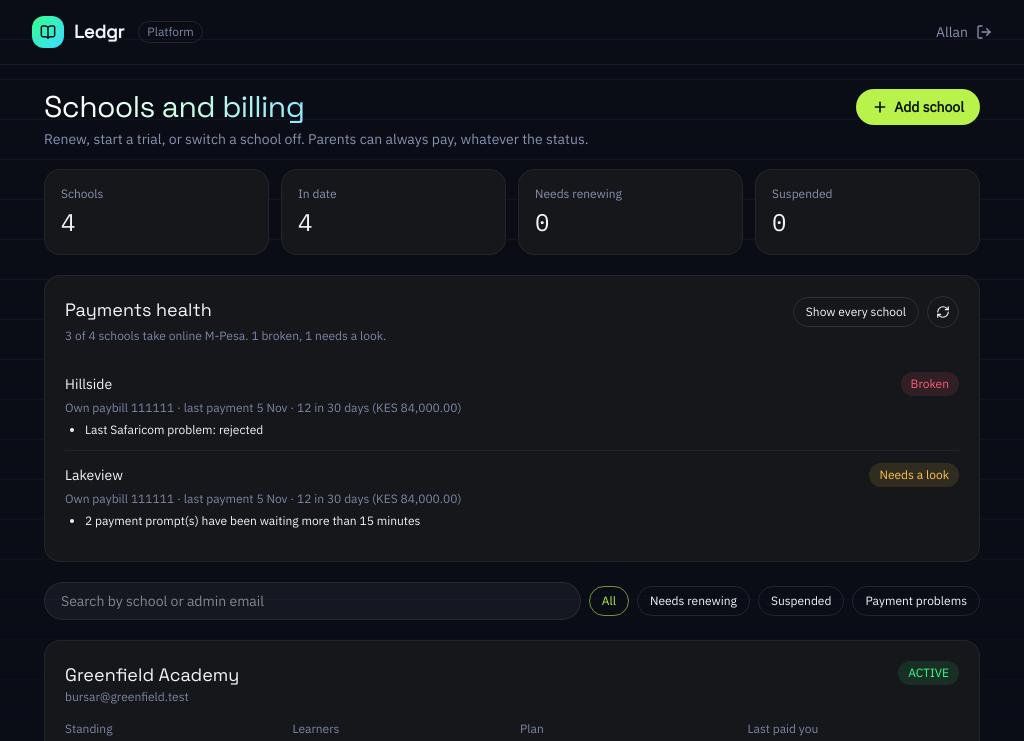
Scenario: payments health › shows only the problems at first, worst first, and can show every school
Expected: the text "3 of 4 schools take online M-Pesa. 1 broken, 1 needs a look." is shown, [65,328,386,344]
Expected: the text "Quiet School" is not shown
Click the button "Show every school" at (856, 312), box [793,297,919,327]
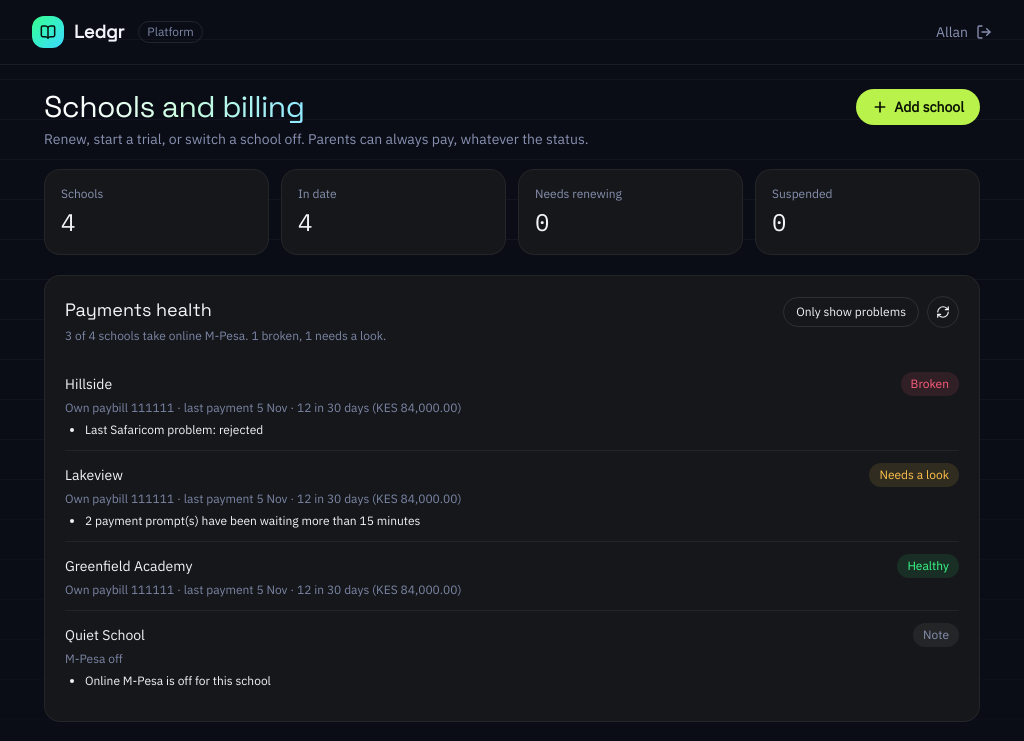
Result: the button "Quiet School" is shown at [65,625,145,645]
